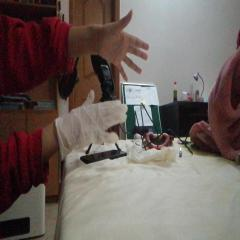gloved: (56, 90, 127, 148)
not-gloved: (84, 9, 150, 81)
